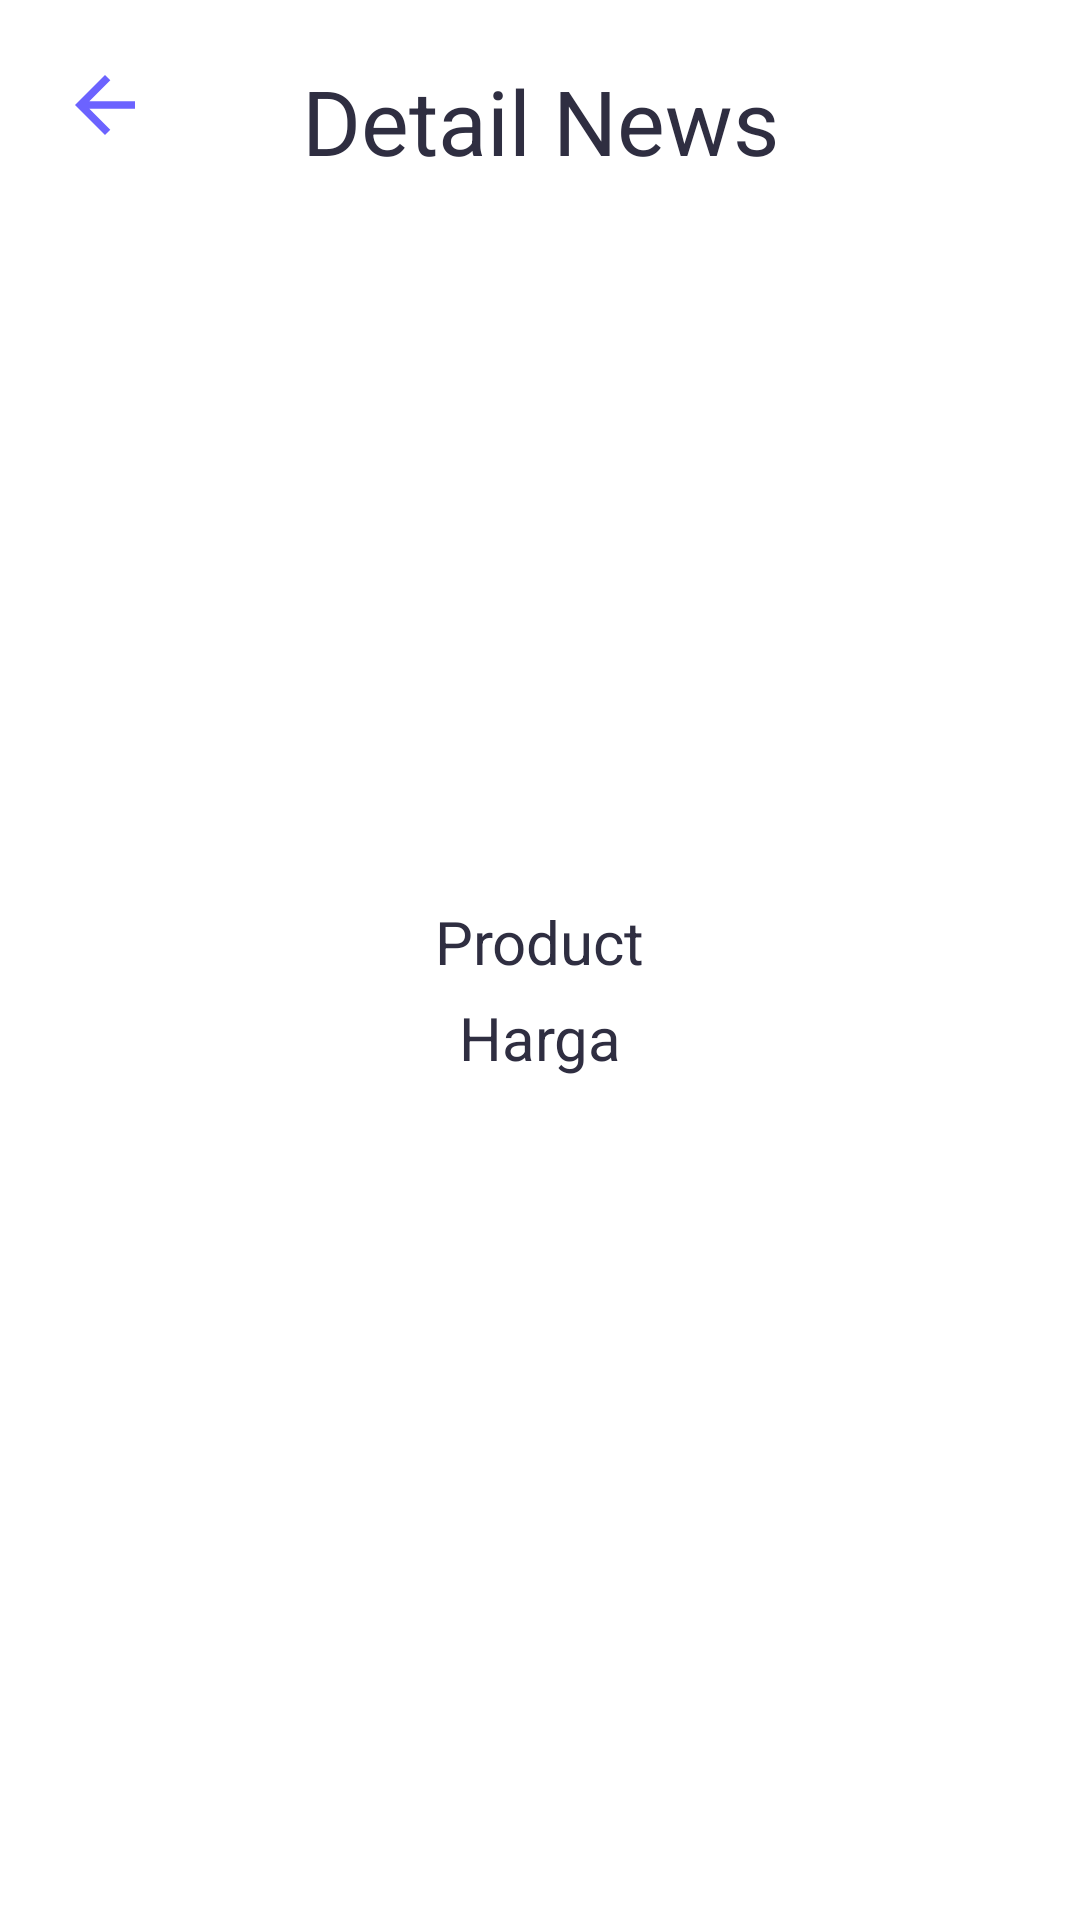

Where to tap for icons on this 1080w x 1920h app screen, as [x,y]:
arrow back: [105,105]
